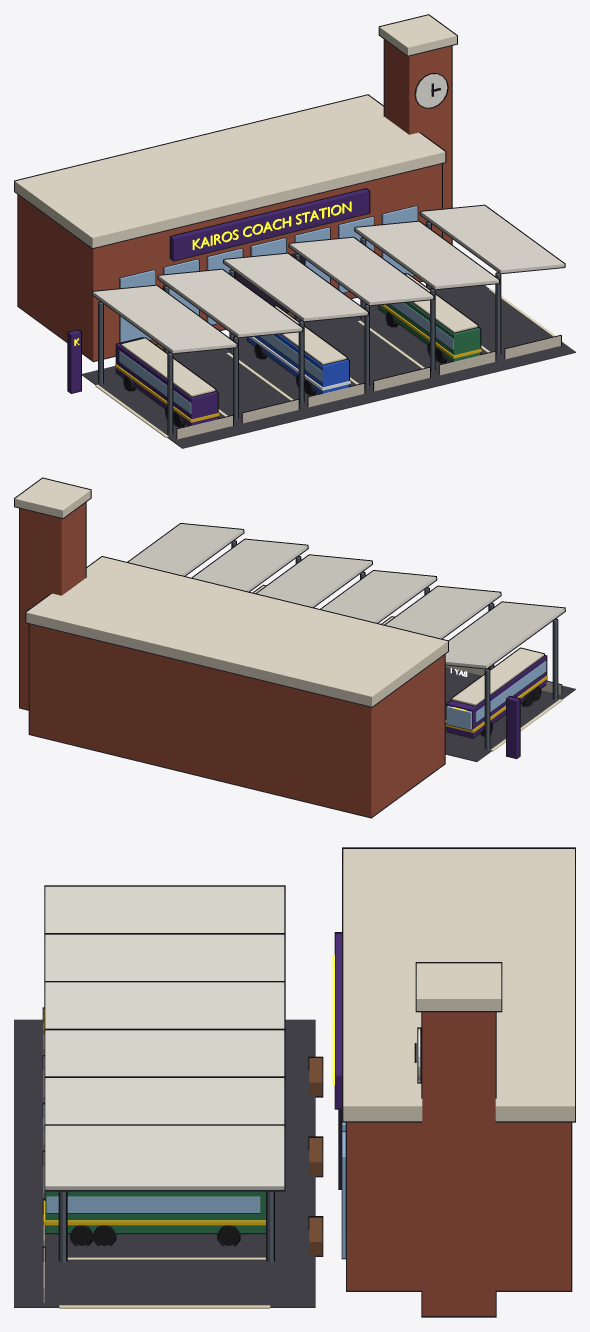
The model's file is gl-coach-station.glb.
The picture shows the model from 3 angles, top to bottom: view 1: azimuth 30°, elevation 25°; view 2: azimuth 150°, elevation 25°; view 3: azimuth 270°, elevation 25°; orthographic projection. The views are drawn at different scales.
Visible parts, largest first — view 1: Cube.001, Cube.027, Cube, Cube.011, Cube.021, Cube.015, Cube.025, Cube.017, Cube.019, Cube.023, Cube.010, Cube.012 (+24 smaller); view 2: Cube, Cube.001, Cube.011, Cube.015, Cube.017, Cube.025, Cube.021, Cube.023, Cube.019, Cube.027, Cube.012, Cube.039 (+6 smaller); view 3: Cube.001, Cube.027, Cube, Cube.011, Cube.025, Cube.021, Cube.023, Cube.015, Cube.017, Cube.019, Cube.047, Cube.012 (+11 smaller).
Boxes of the visible parts, <box> form: Cube.001: <box>14,94,446,249</box>; Cube.027: <box>82,285,575,448</box>; Cube: <box>17,164,442,362</box>; Cube.011: <box>383,39,452,244</box>; Cube.021: <box>288,236,434,306</box>; Cube.015: <box>91,284,237,354</box>; Cube.025: <box>419,204,565,274</box>; Cube.017: <box>157,268,303,338</box>; Cube.019: <box>223,252,368,322</box>; Cube.023: <box>354,220,499,290</box>; Cube.010: <box>169,188,370,261</box>; Cube.012: <box>378,14,457,56</box>; Cube: <box>28,624,445,818</box>; Cube.001: <box>25,556,448,707</box>; Cube.011: <box>19,502,86,710</box>; Cube.015: <box>445,601,565,669</box>; Cube.017: <box>384,585,501,638</box>; Cube.025: <box>127,523,244,576</box>; Cube.021: <box>256,554,372,607</box>; Cube.023: <box>192,538,308,591</box>; Cube.019: <box>320,570,437,623</box>; Cube.027: <box>445,667,575,761</box>; Cube.012: <box>14,477,91,518</box>; Cube.039: <box>451,647,544,706</box>; Cube.001: <box>342,847,575,1122</box>; Cube.027: <box>14,1019,315,1307</box>; Cube: <box>346,1122,572,1291</box>; Cube.011: <box>421,1012,496,1317</box>; Cube.025: <box>44,1124,285,1191</box>; Cube.021: <box>44,1028,285,1076</box>; Cube.023: <box>44,1076,285,1124</box>; Cube.015: <box>44,885,285,932</box>; Cube.017: <box>44,933,285,980</box>; Cube.019: <box>44,981,285,1028</box>; Cube.047: <box>44,1191,265,1234</box>; Cube.012: <box>415,962,502,1012</box>.
Size of the model in its own units: 20 by 9.4 by 14.9.
